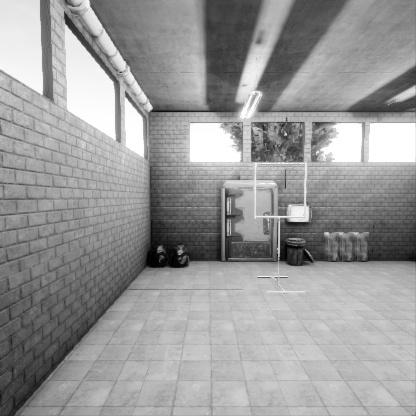gate: (254, 200, 311, 255)
